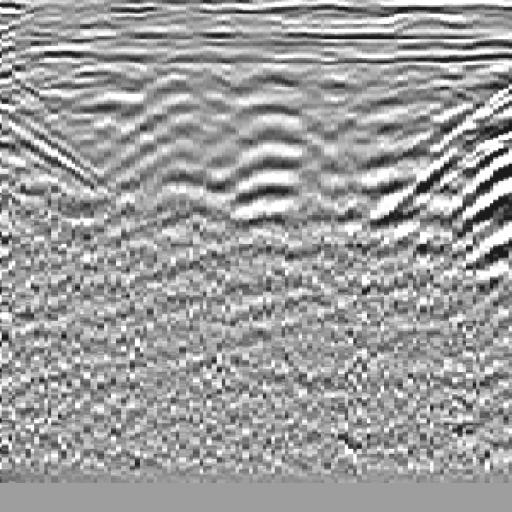metalic: (137, 46, 293, 266)
nonmetalic: (378, 43, 512, 282)
